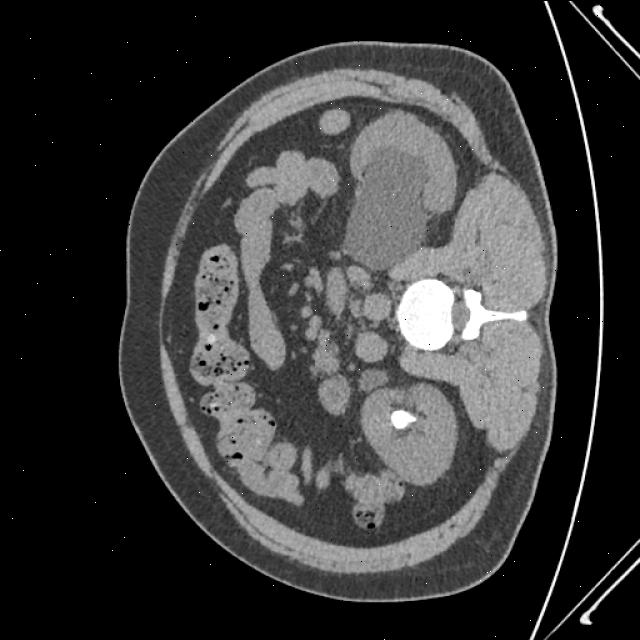kidneystone: (390, 409, 417, 429)
